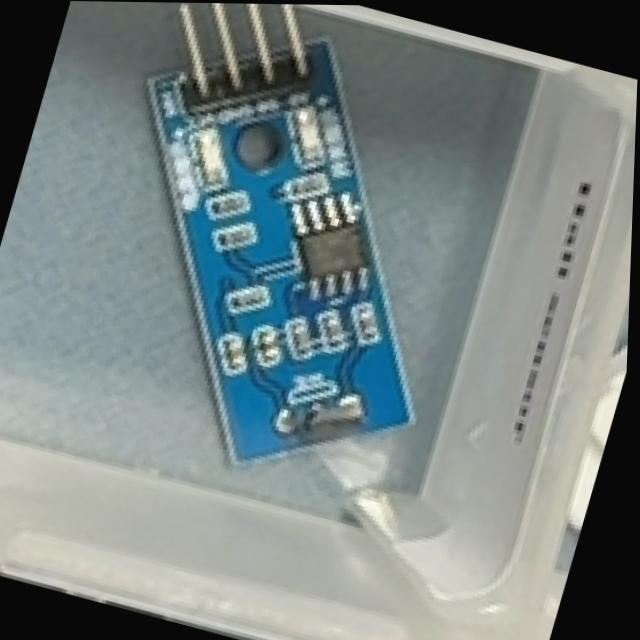Hall Sensor: (48, 1, 517, 514)
